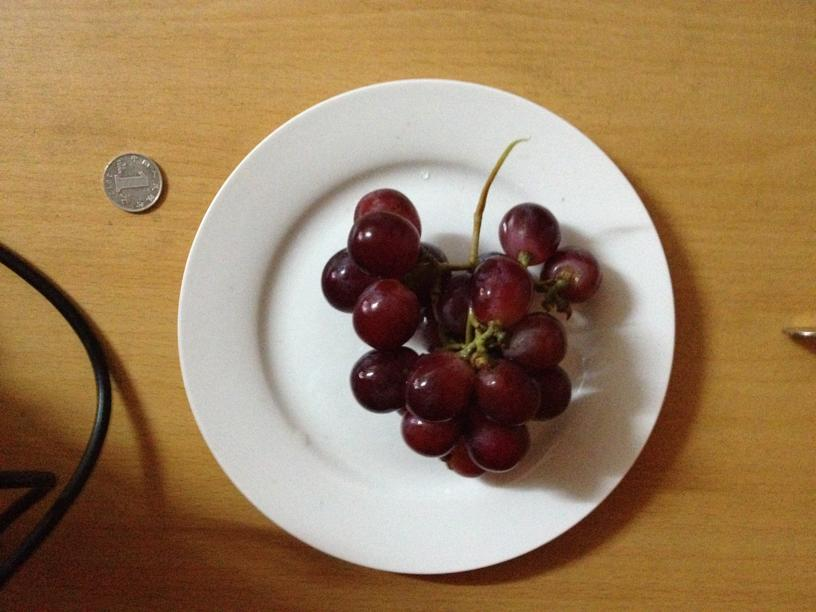coin: (102, 150, 163, 213)
grape: (327, 191, 600, 477)
